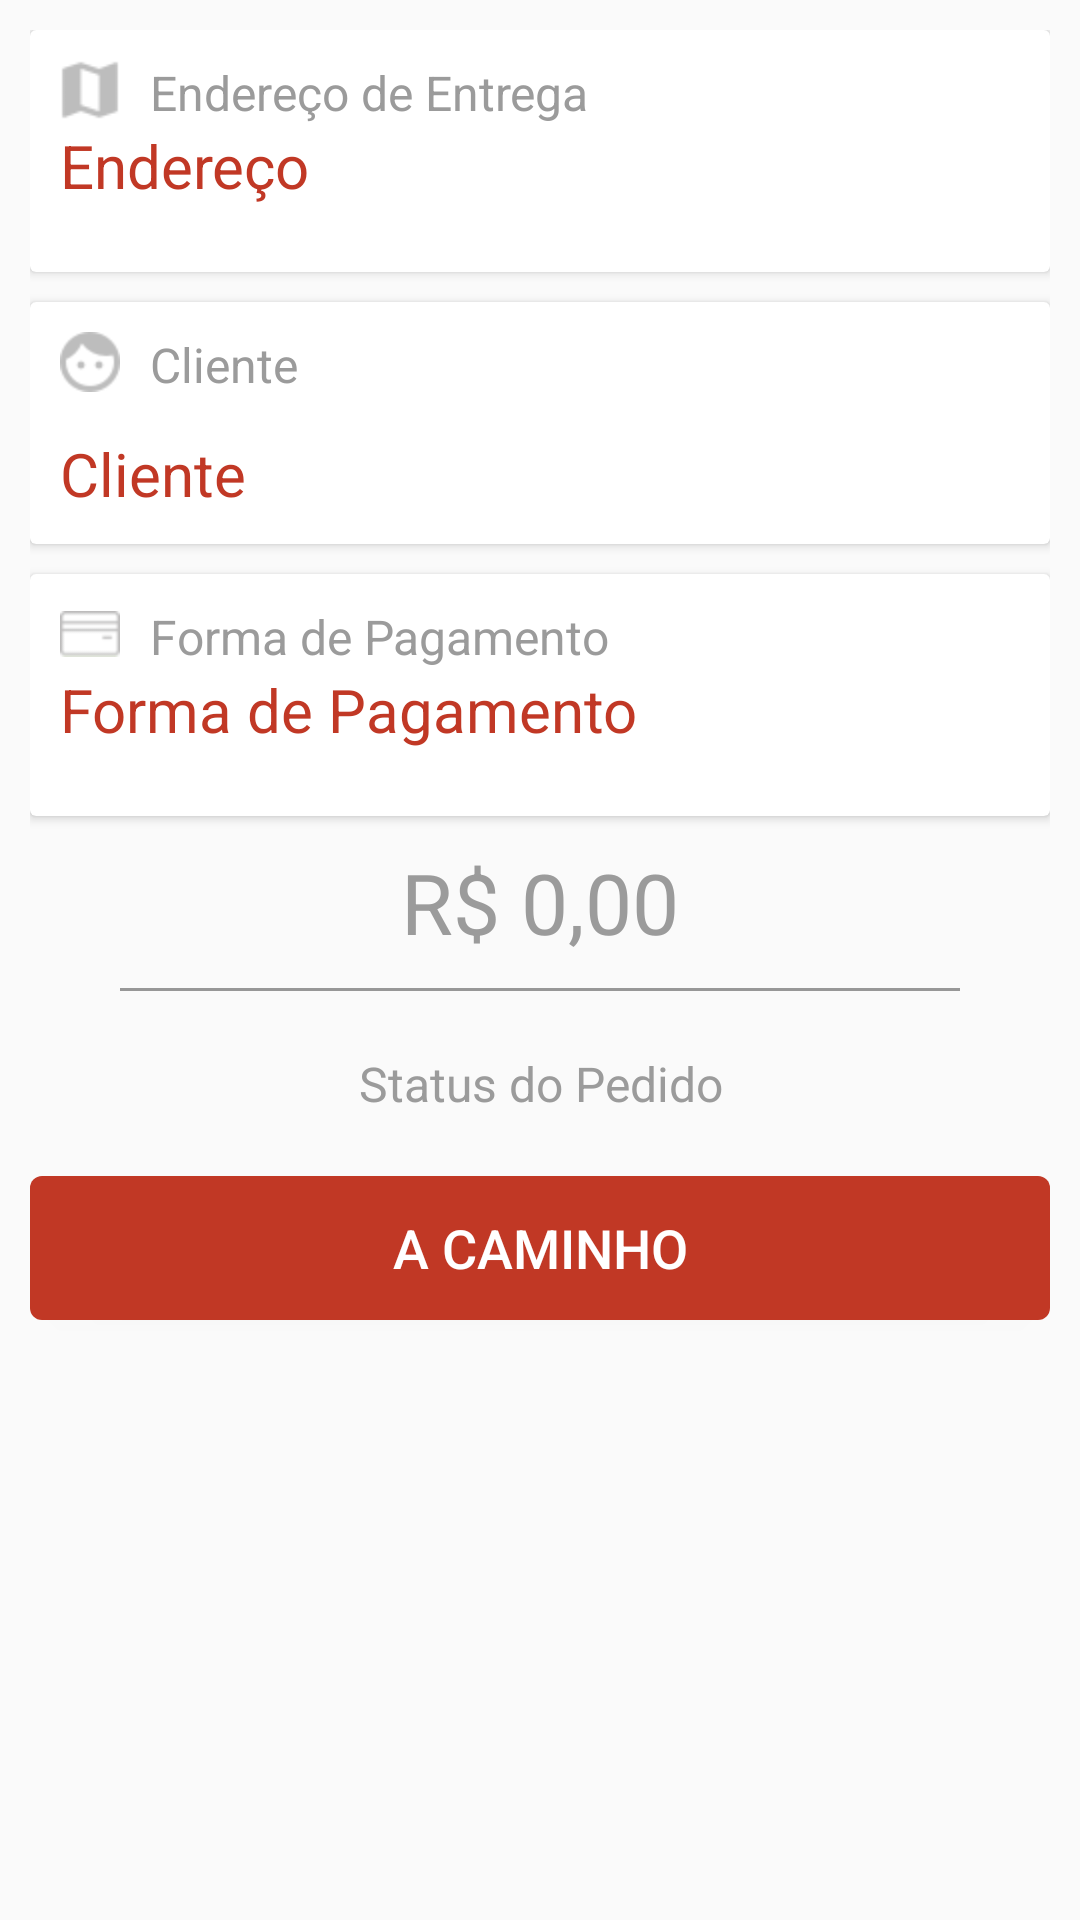

Screen size 1080*1920. Icon name, then its center in pixels as (x,y):
card: (90,634)
face: (90,362)
map: (90,90)
